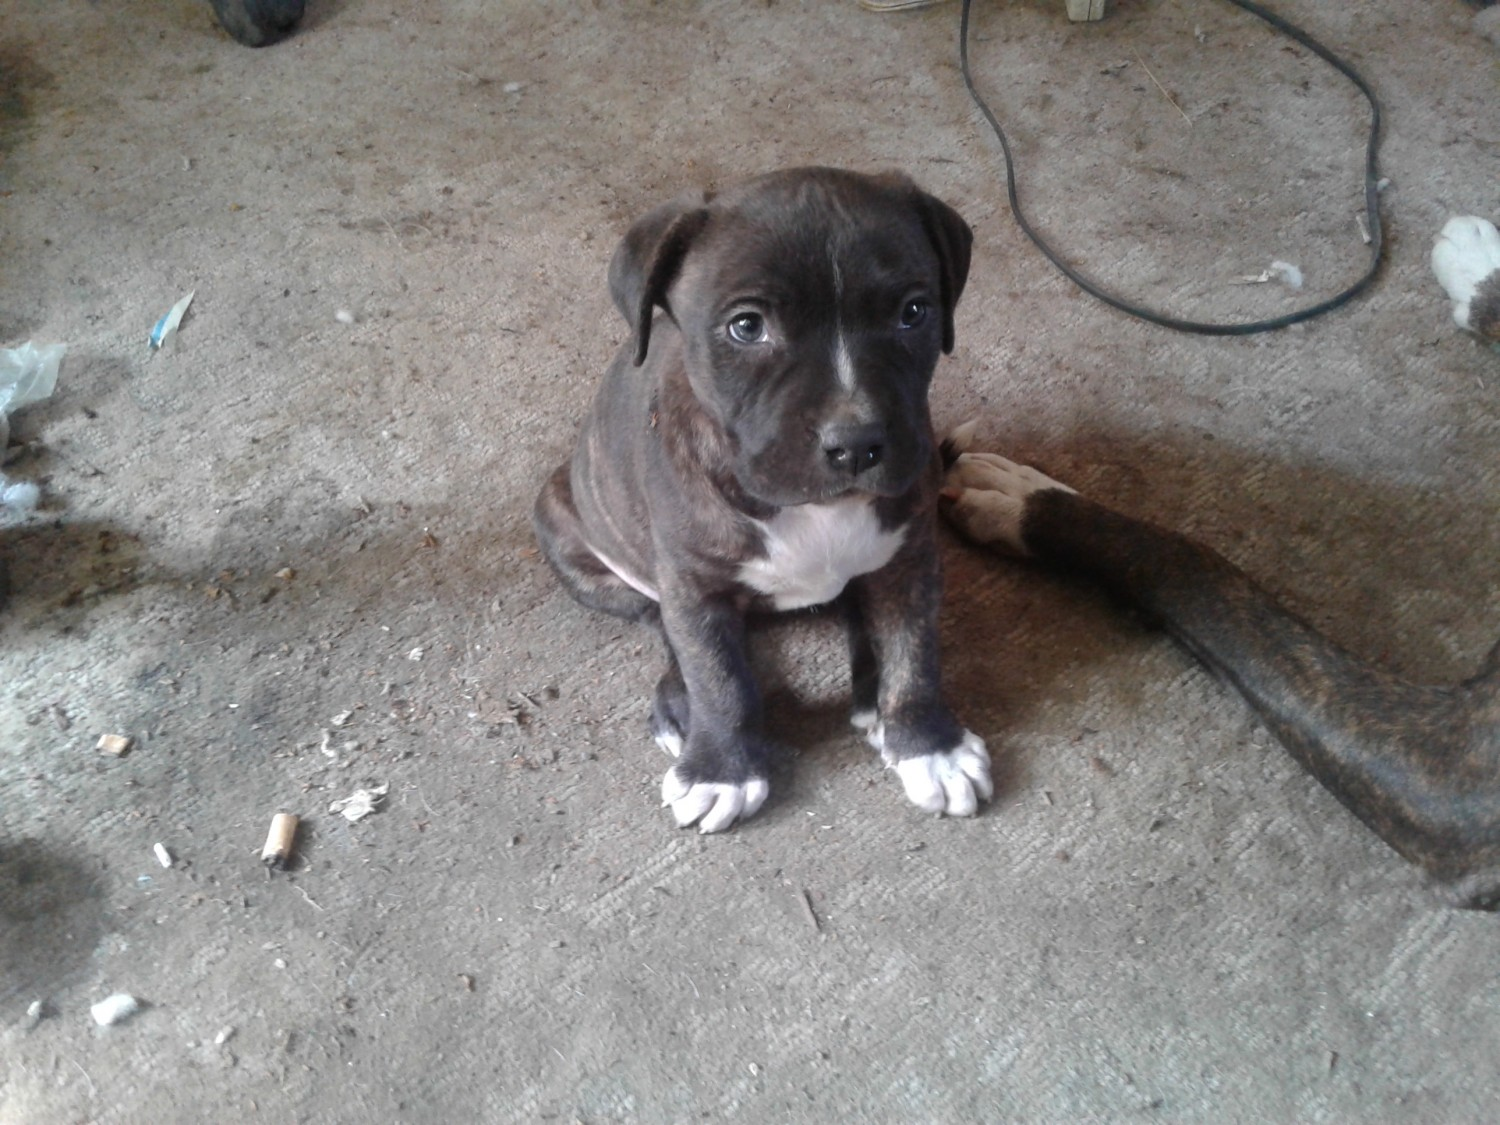am_pit_bull_terrier: (529, 164, 994, 835)
